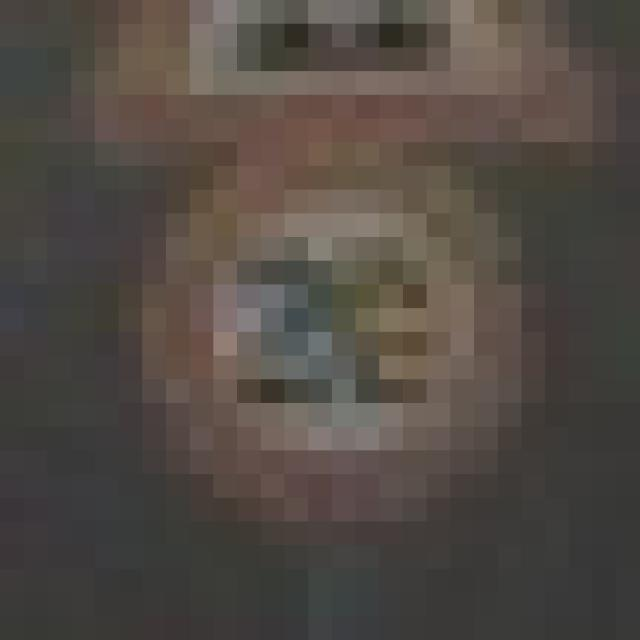Speed Limit -20-: (119, 142, 522, 522)
